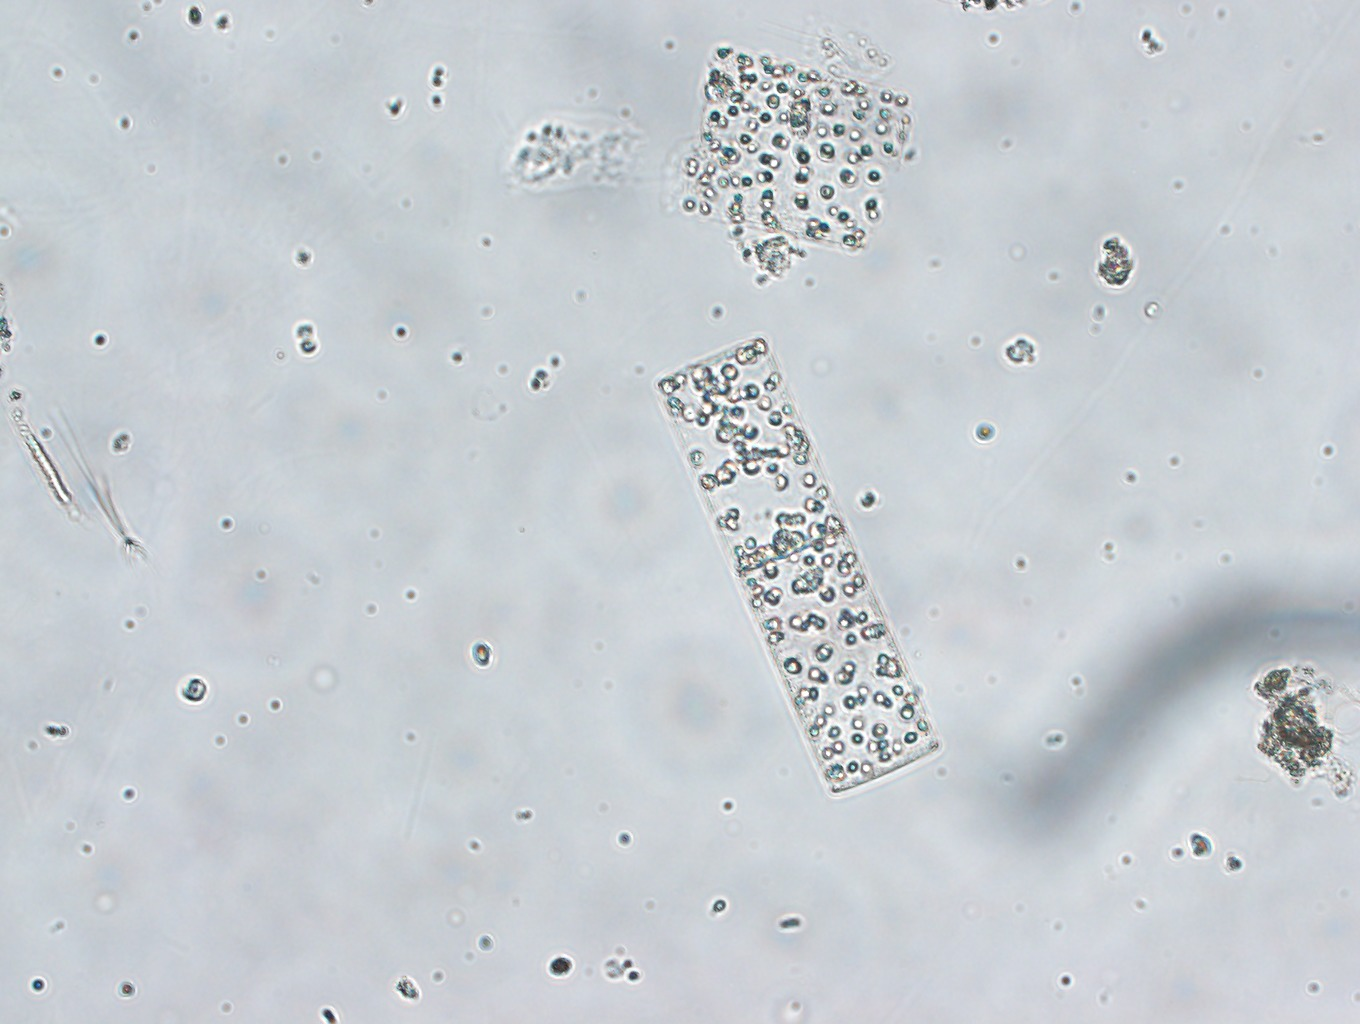guinardia flaccida: (641, 323, 947, 803), (660, 30, 917, 267)
